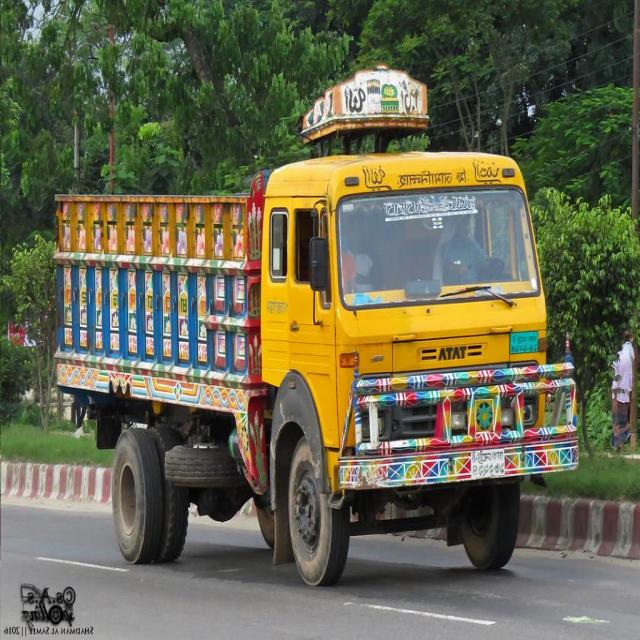truck: (47, 38, 590, 601)
